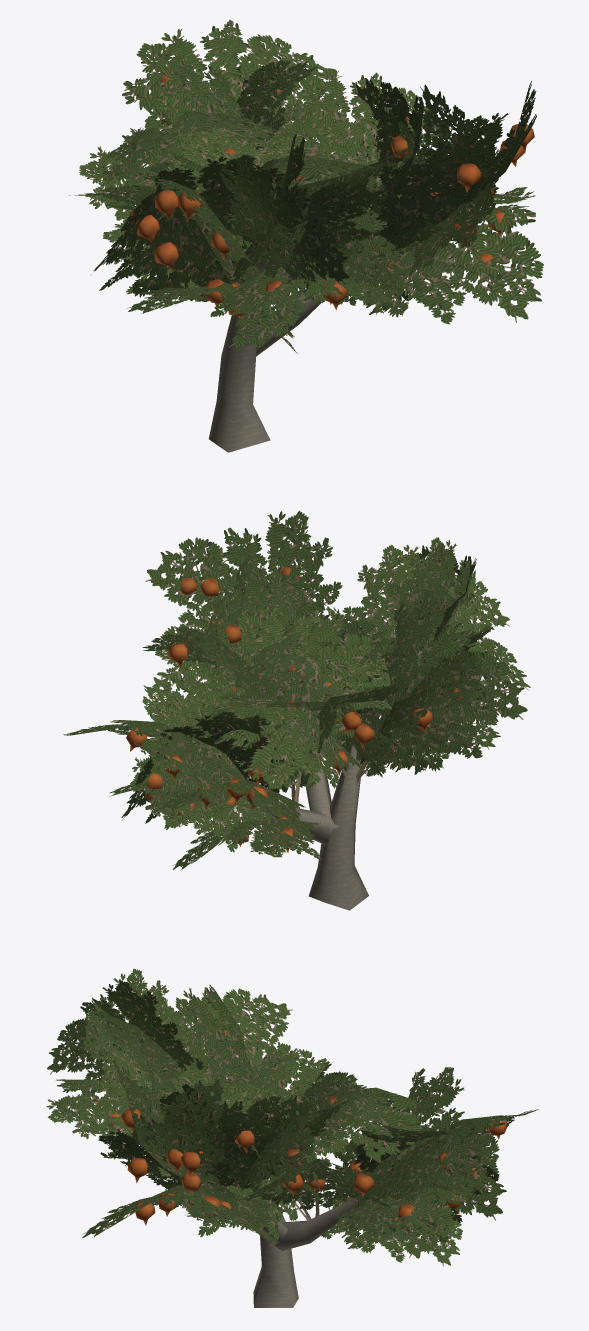
Rendered from Garnet01.fbx.
3 renders of one model, top to bottom at view 1: azimuth 30°, elevation 25°; view 2: azimuth 150°, elevation 25°; view 3: azimuth 270°, elevation 25°, orthographic. The views are drawn at different scales.
Visible parts, largest first — view 1: Garnet01; view 2: Garnet01; view 3: Garnet01.
Part boxes in pixels (bbox=[...]): Garnet01: bbox=[69, 20, 543, 452]; Garnet01: bbox=[63, 511, 530, 910]; Garnet01: bbox=[46, 969, 538, 1307].
Size of the model in its own units: 686 by 519 by 774.
